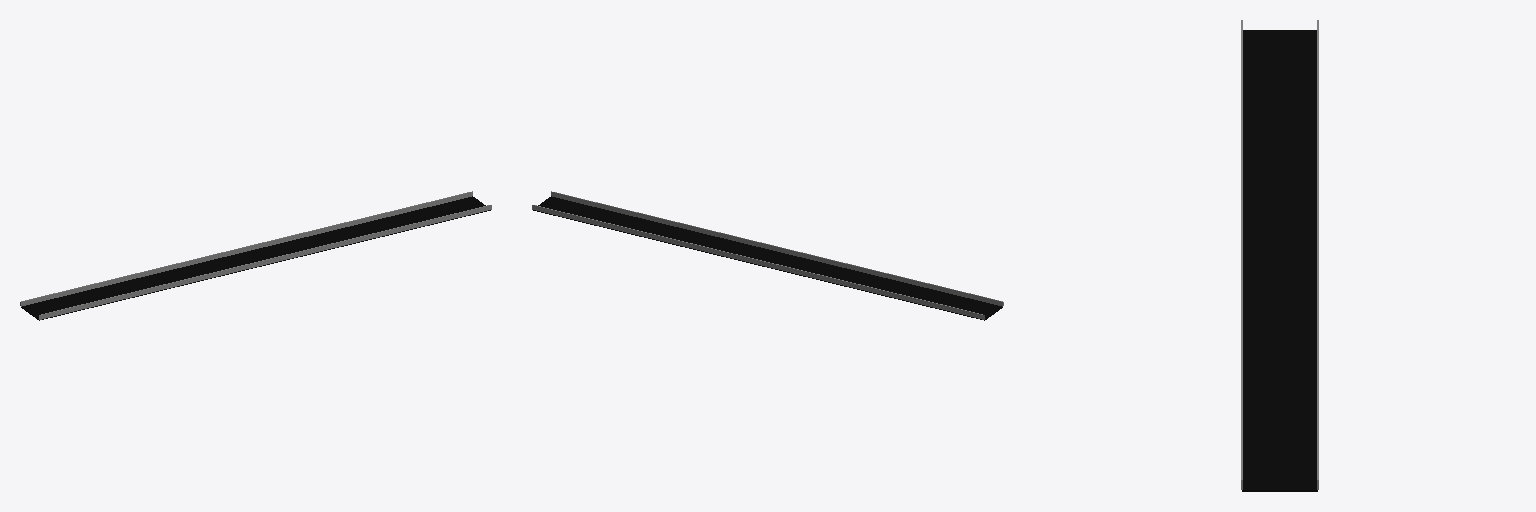
URDF robot description (rail1):
<?xml version="1.0"?>
<!-- created with Phobos 1.0.1 "Capricious Choutengan" -->
  <robot name="rail1">

    <link name="Untitled.066">
      <inertial>
        <origin xyz="0 0 0" rpy="0 0 0"/>
        <mass value="10.0"/>
        <inertia ixx="3.97402" ixy="0" ixz="0" iyy="0.02757" iyz="0" izz="2e-05"/>
      </inertial>
      <visual name="Cube.016">
        <origin xyz="0 0 0" rpy="0 0 0"/>
        <geometry>
          <box size="5.0 0.35 0.01"/>
        </geometry>
        <material name="Material.046"/>
      </visual>
      <collision name="Cube.016">
        <origin xyz="0 0 0" rpy="0 0 0"/>
        <geometry>
          <box size="5.0 0.35 0.01"/>
        </geometry>
      </collision>
    </link>

    <link name="Untitled.067">
      <inertial>
        <origin xyz="0 0 0" rpy="0 0 0"/>
        <mass value="1.0"/>
        <inertia ixx="0.00856" ixy="0" ixz="0" iyy="2e-05" iyz="0" izz="2e-05"/>
      </inertial>
      <visual name="Cube.018">
        <origin xyz="0 0 0" rpy="0 0 0"/>
        <geometry>
          <box size="5.0 0.01 0.05"/>
        </geometry>
        <material name="Material.047"/>
      </visual>
      <collision name="Cube.018">
        <origin xyz="0 0 0" rpy="0 0 0"/>
        <geometry>
          <box size="5.0 0.01 0.05"/>
        </geometry>
      </collision>
    </link>

    <link name="Untitled.068">
      <inertial>
        <origin xyz="0 0 0" rpy="0 0 0"/>
        <mass value="1.0"/>
        <inertia ixx="0.00856" ixy="0" ixz="0" iyy="2e-05" iyz="0" izz="2e-05"/>
      </inertial>
      <visual name="Cube.018">
        <origin xyz="0 0 0" rpy="0 0 0"/>
        <geometry>
          <box size="5.0 0.01 0.05"/>
        </geometry>
        <material name="Material.047"/>
      </visual>
      <collision name="Cube.018">
        <origin xyz="0 0 0" rpy="0 0 0"/>
        <geometry>
          <box size="5.0 0.01 0.05"/>
        </geometry>
      </collision>
    </link>

    <joint name="Untitled.067" type="fixed">
      <origin xyz="0 0.175 0.03" rpy="0 0 0"/>
      <parent link="Untitled.066"/>
      <child link="Untitled.067"/>
    </joint>

    <joint name="Untitled.068" type="fixed">
      <origin xyz="0 -0.175 0.03" rpy="0 0 0"/>
      <parent link="Untitled.066"/>
      <child link="Untitled.068"/>
    </joint>

    <material name="Material.046">
      <color rgba="0.08 0.08 0.08 1.0"/>
    </material>

    <material name="Material.047">
      <color rgba="0.56 0.56 0.56 1.0"/>
    </material>

  </robot>

--- Render facts (derived) ---
3 views of the same robot in one strip: view 1: azimuth 30°, elevation 25°; view 2: azimuth 150°, elevation 25°; view 3: azimuth 270°, elevation 25° (orthographic).
Model rail1 with 3 links and 2 joints (2 fixed), rooted at Untitled.066, posed all joints at 0.
Links seen in each view (by area): view 1: Untitled.066, Untitled.068, Untitled.067; view 2: Untitled.066, Untitled.067, Untitled.068; view 3: Untitled.066, Untitled.067, Untitled.068.
Boxes of the visible links, left/top/right/bottom form: Untitled.066: left=21, top=196, right=490, bottom=320; Untitled.068: left=39, top=205, right=491, bottom=319; Untitled.067: left=20, top=191, right=472, bottom=306; Untitled.066: left=533, top=196, right=1002, bottom=320; Untitled.067: left=532, top=205, right=984, bottom=319; Untitled.068: left=551, top=191, right=1003, bottom=306; Untitled.066: left=1242, top=30, right=1317, bottom=491; Untitled.067: left=1317, top=20, right=1318, bottom=489; Untitled.068: left=1241, top=20, right=1242, bottom=489.
Bounding box of the posed robot: 5 × 0.36 × 0.06 m (x, y, z).
Geometry: primitives only (box / cylinder / sphere), no mesh files.
